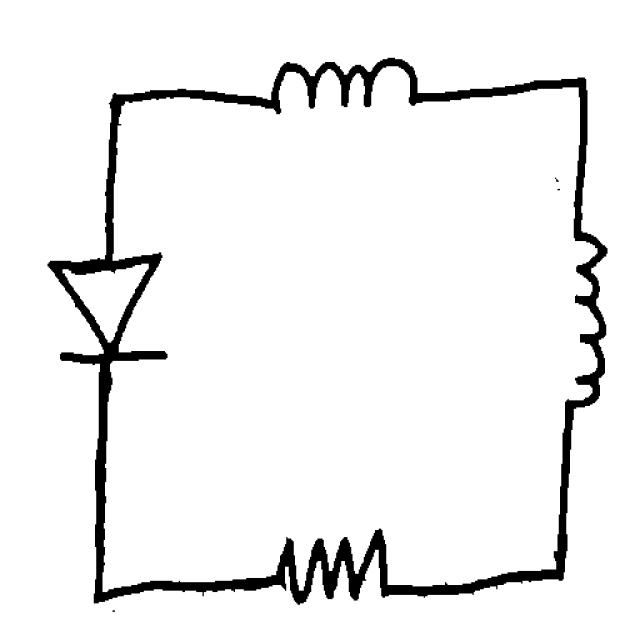diode: (38, 236, 178, 379)
inductor: (549, 206, 618, 421), (255, 46, 428, 127)
resistor: (262, 517, 406, 614)
